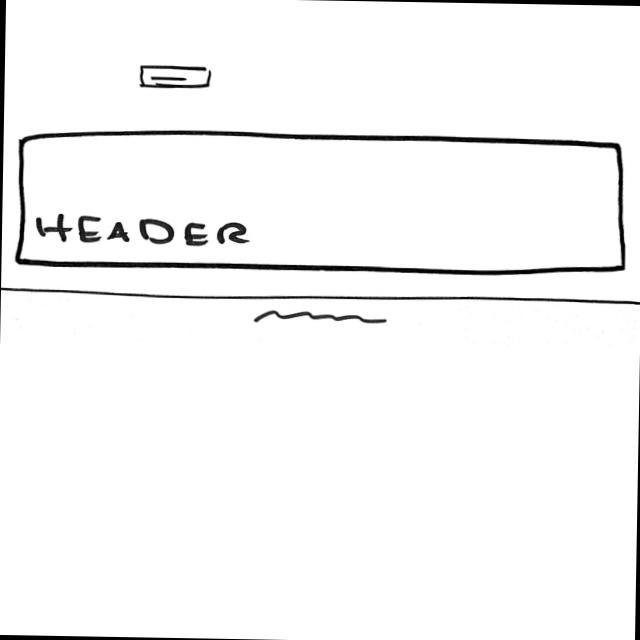container: (13, 128, 627, 278)
icon-button: (133, 61, 212, 90)
label: (34, 210, 254, 248)
text: (252, 308, 390, 326)
